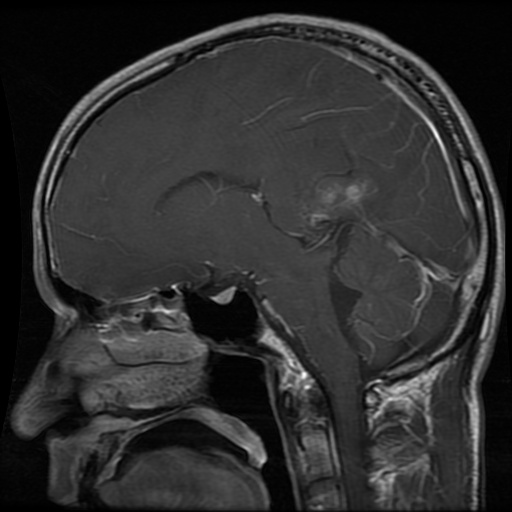glioma: (302, 175, 377, 225)
